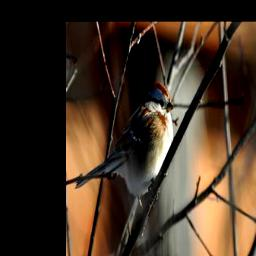Sparrow: (73, 80, 175, 206)
